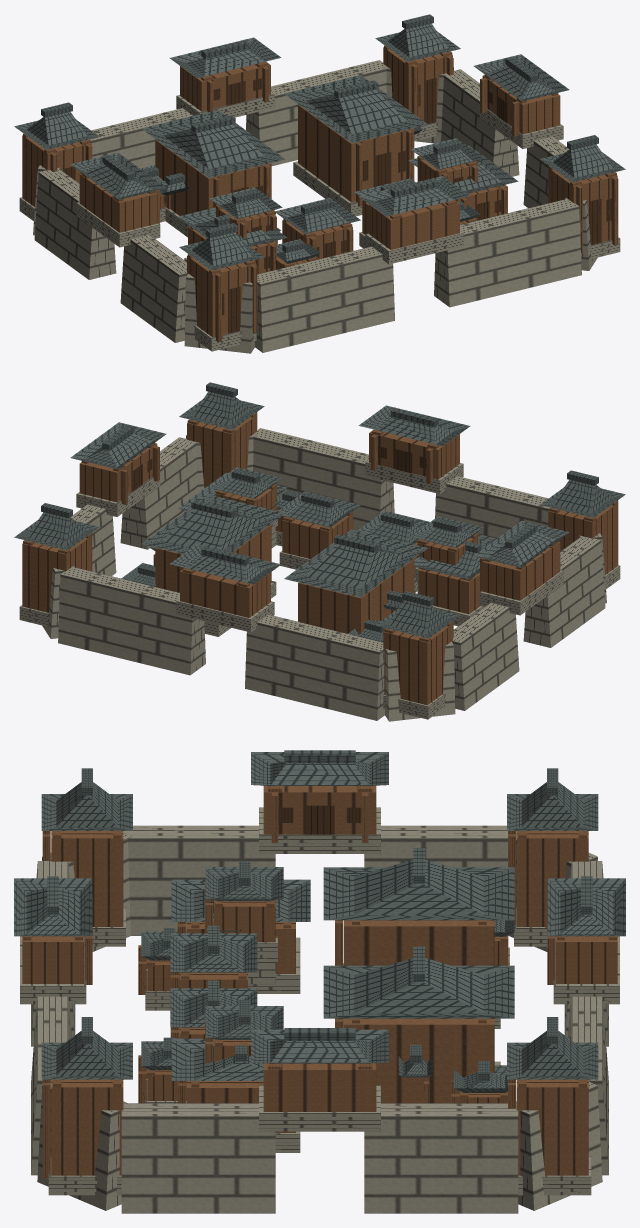
File: city1-lod1.glb
3 renders of one model, top to bottom at view 1: azimuth 30°, elevation 25°; view 2: azimuth 150°, elevation 25°; view 3: azimuth 270°, elevation 25°, orthographic. The views are drawn at different scales.
Size of the model in its own units: 2.15 by 0.561 by 1.79.
1 material, 1 textured.
